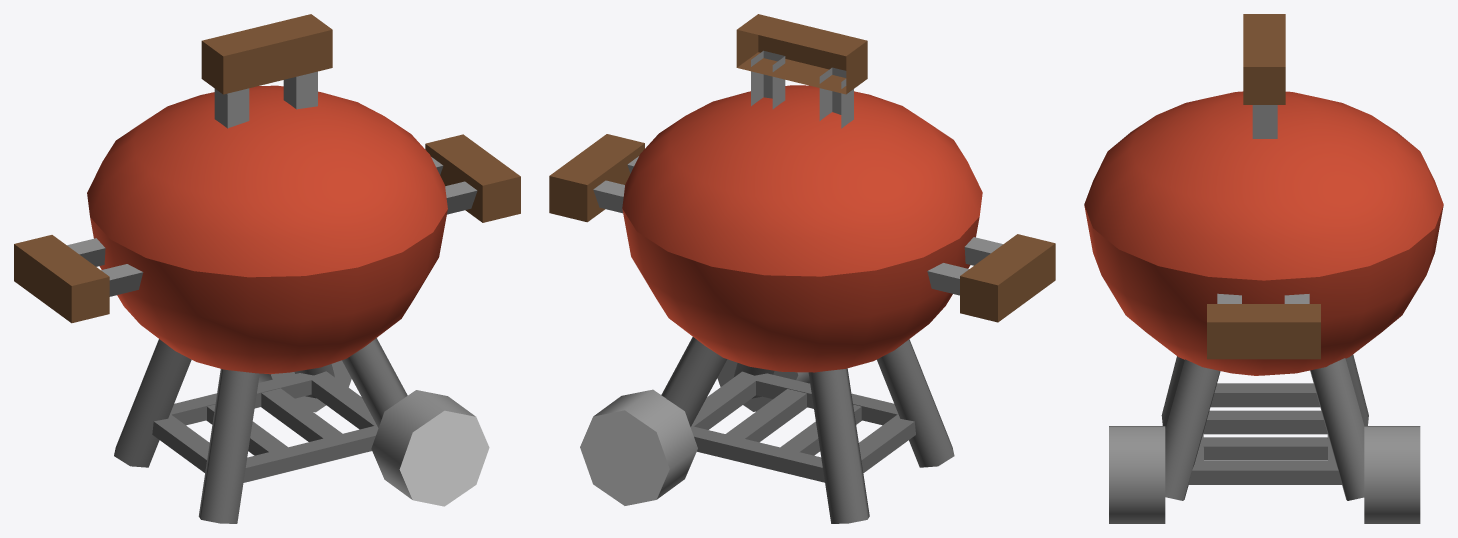
File: bbq_s03.FBX
3 views of the same model, side by side, from view 1: azimuth 30°, elevation 25°; view 2: azimuth 150°, elevation 25°; view 3: azimuth 270°, elevation 25° (orthographic).
Parts seen in each view (by area): view 1: bbq_s03; view 2: bbq_s03; view 3: bbq_s03.
Part boxes in pixels (<box>): bbq_s03: <box>14,14,520,523</box>; bbq_s03: <box>549,14,1055,523</box>; bbq_s03: <box>1084,14,1443,523</box>.
Size of the model in its own units: 187 by 131 by 174.
1 material, 1 textured.
